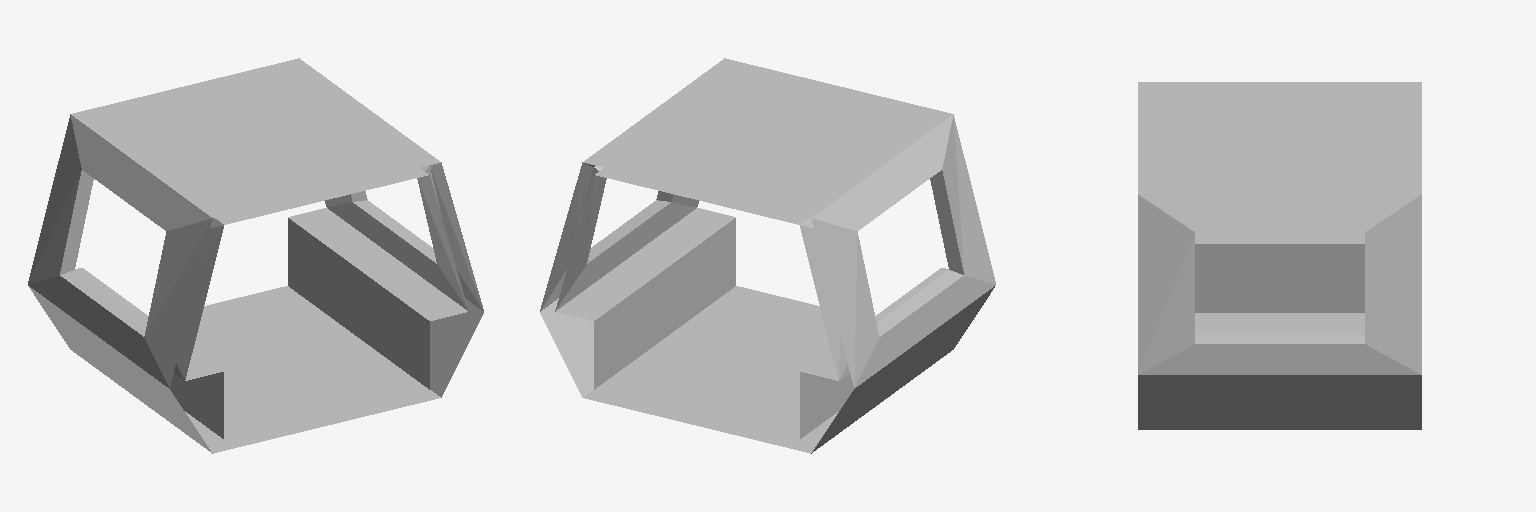
The model's file is train_compartment.obj.
3 views of the same model, side by side, from view 1: azimuth 30°, elevation 25°; view 2: azimuth 150°, elevation 25°; view 3: azimuth 270°, elevation 25° (orthographic).
Parts seen in each view (by area): view 1: Cube; view 2: Cube; view 3: Cube.
Boxes of the visible parts, x1=… form: Cube: x1=28, y1=58, x2=483, y2=453; Cube: x1=540, y1=58, x2=995, y2=453; Cube: x1=1138, y1=82, x2=1421, y2=429.
Size of the model in its own units: 3.83 by 2.74 by 3.